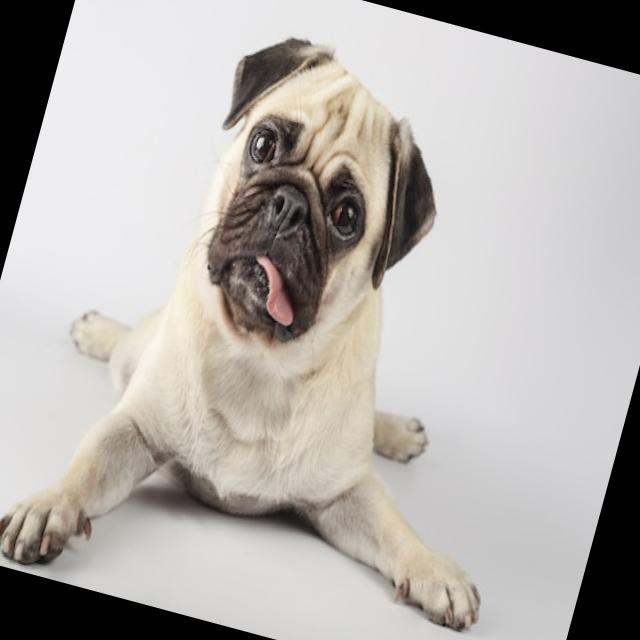Dog: (0, 0, 611, 640)
